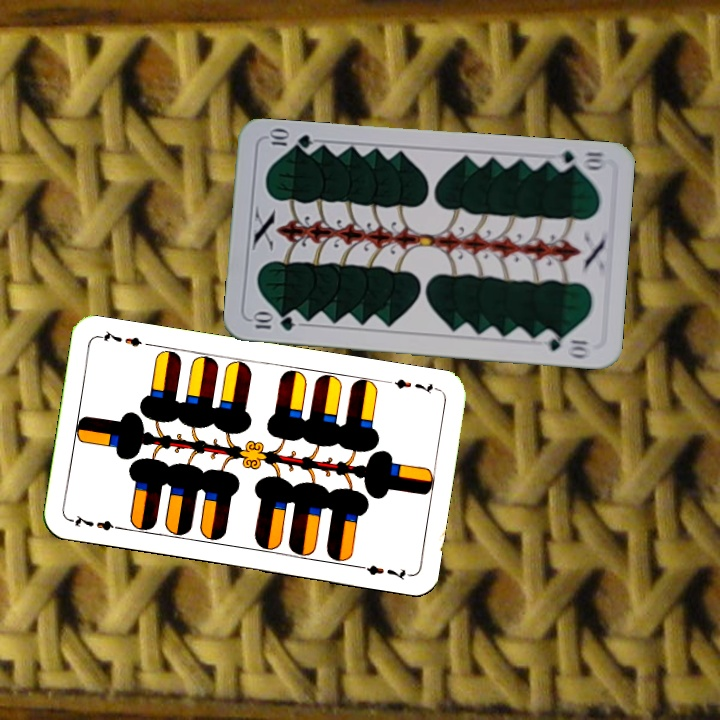E7: (67, 511, 126, 534), (390, 375, 441, 397)
G10: (549, 147, 609, 174), (248, 311, 298, 333)
